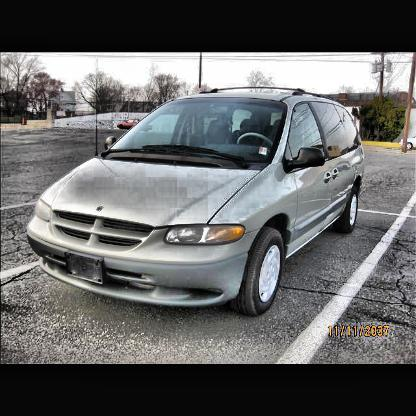Dodge Caravan Minivan 1997: (26, 86, 368, 321)
